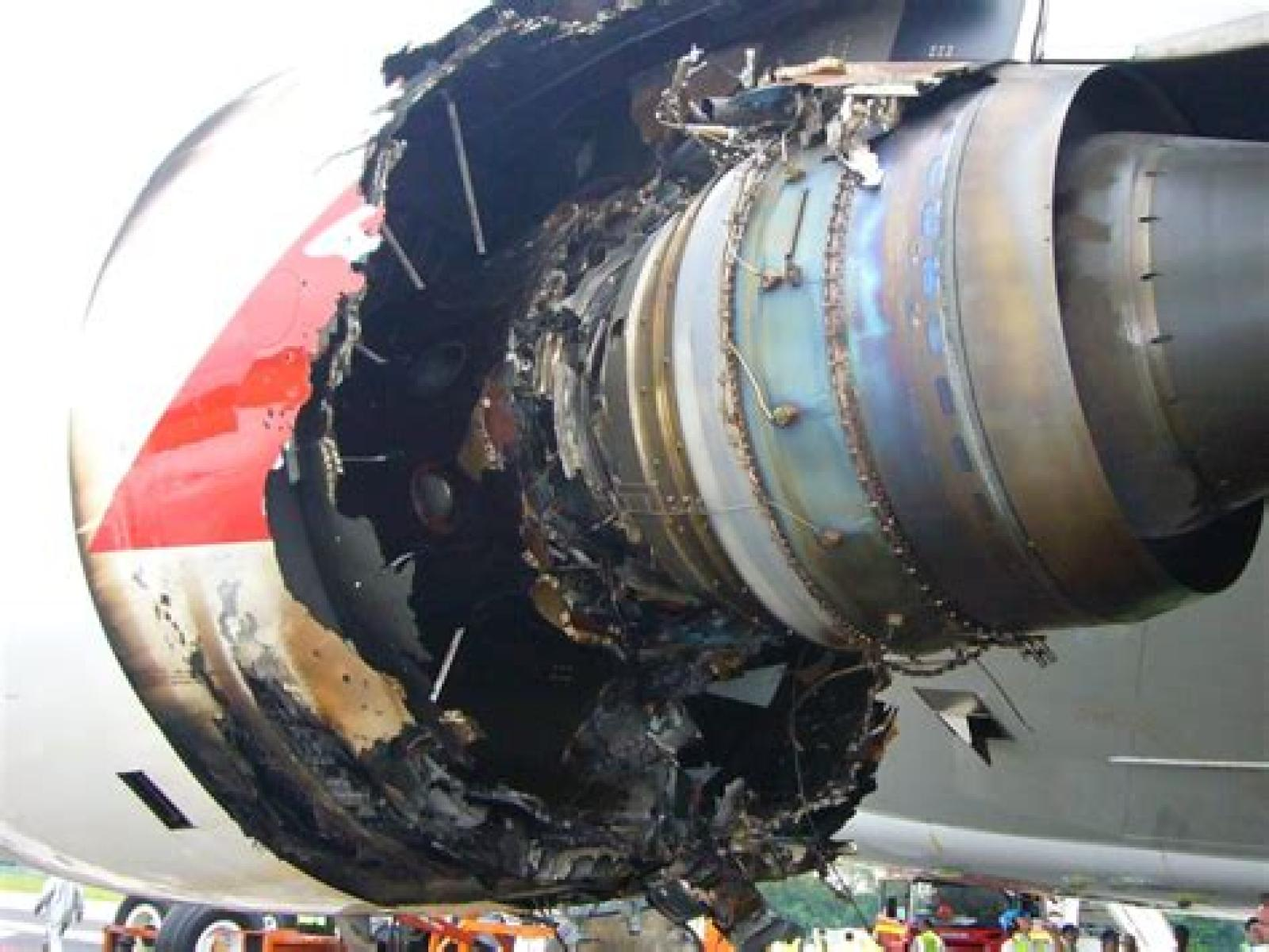Engine_damage: (0, 0, 1266, 944), (380, 0, 897, 287), (477, 381, 728, 652), (380, 0, 803, 139), (667, 59, 961, 182), (297, 440, 426, 697), (265, 459, 335, 625), (634, 48, 736, 137), (707, 880, 792, 949), (313, 292, 359, 402), (324, 295, 359, 389), (675, 46, 704, 94)
